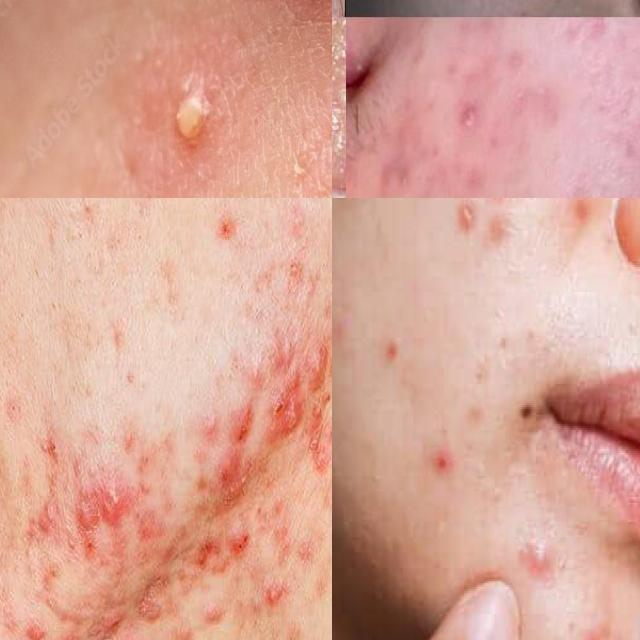comedone: (0, 361, 39, 447), (8, 513, 42, 600), (118, 198, 158, 268), (67, 198, 101, 254)
crystanlline: (203, 385, 256, 514), (185, 516, 268, 578), (75, 469, 134, 555), (263, 369, 306, 454), (98, 622, 163, 640)
papule: (586, 625, 627, 640)
pustule: (524, 528, 560, 592), (276, 246, 311, 298), (451, 96, 484, 135)
